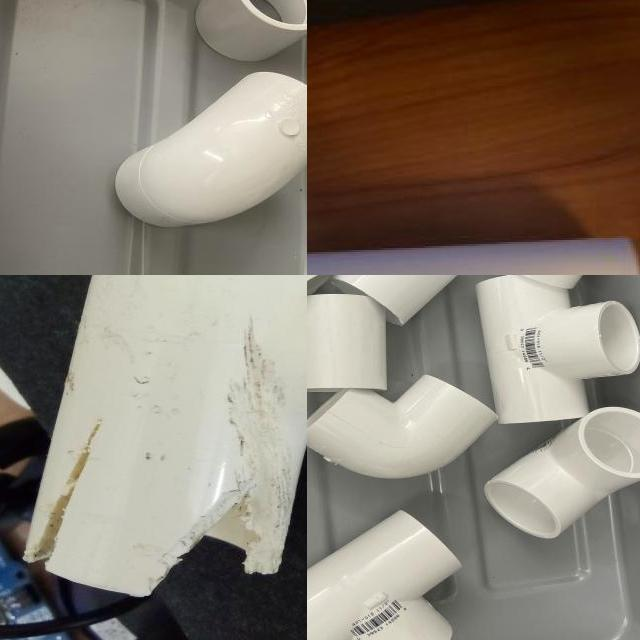Defective: (226, 339, 281, 577), (25, 422, 101, 567), (179, 514, 252, 572)
L Joint: (113, 72, 307, 231)
T Joint: (21, 275, 307, 602)
